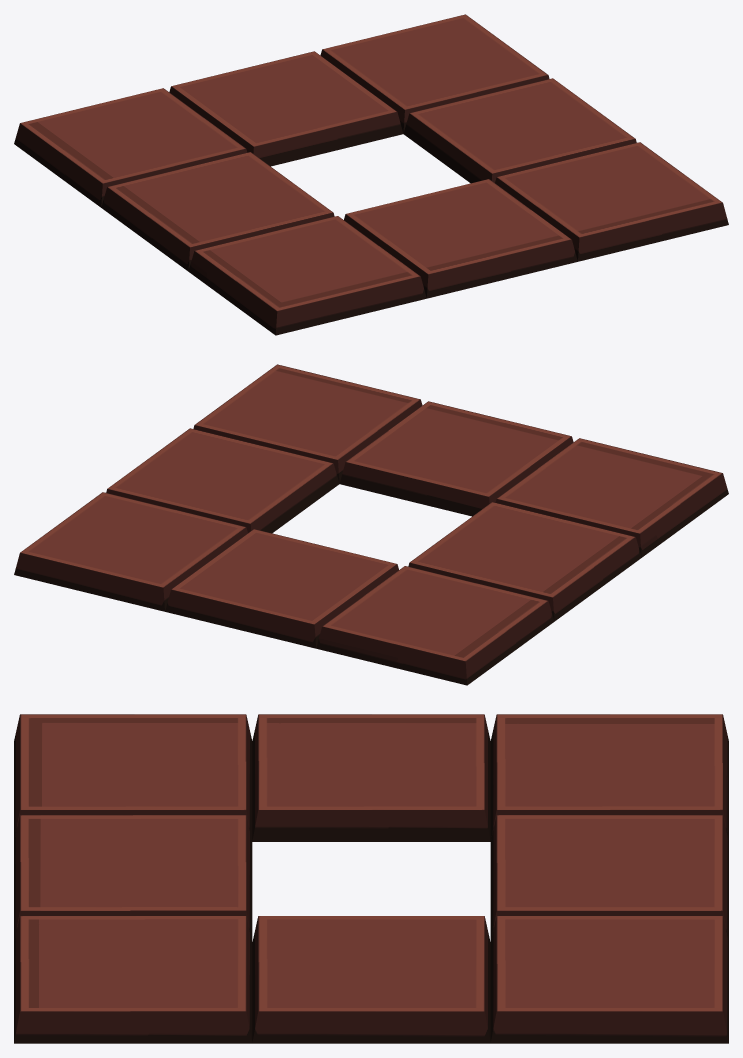
Rendered from board_doughnut2.fbx.
The picture shows the model from 3 angles, top to bottom: view 1: azimuth 30°, elevation 25°; view 2: azimuth 150°, elevation 25°; view 3: azimuth 270°, elevation 25°; orthographic projection. The views are drawn at different scales.
Parts seen in each view (by area): view 1: Object001; view 2: Object001; view 3: Object001.
Part boxes in pixels (x1,y1,x2,y2): Object001: (14, 14, 728, 335); Object001: (14, 364, 728, 685); Object001: (14, 714, 728, 1043).
Size of the model in its own units: 54.22 by 2.47 by 54.22.
Materials: 1 (1 with a texture image).
